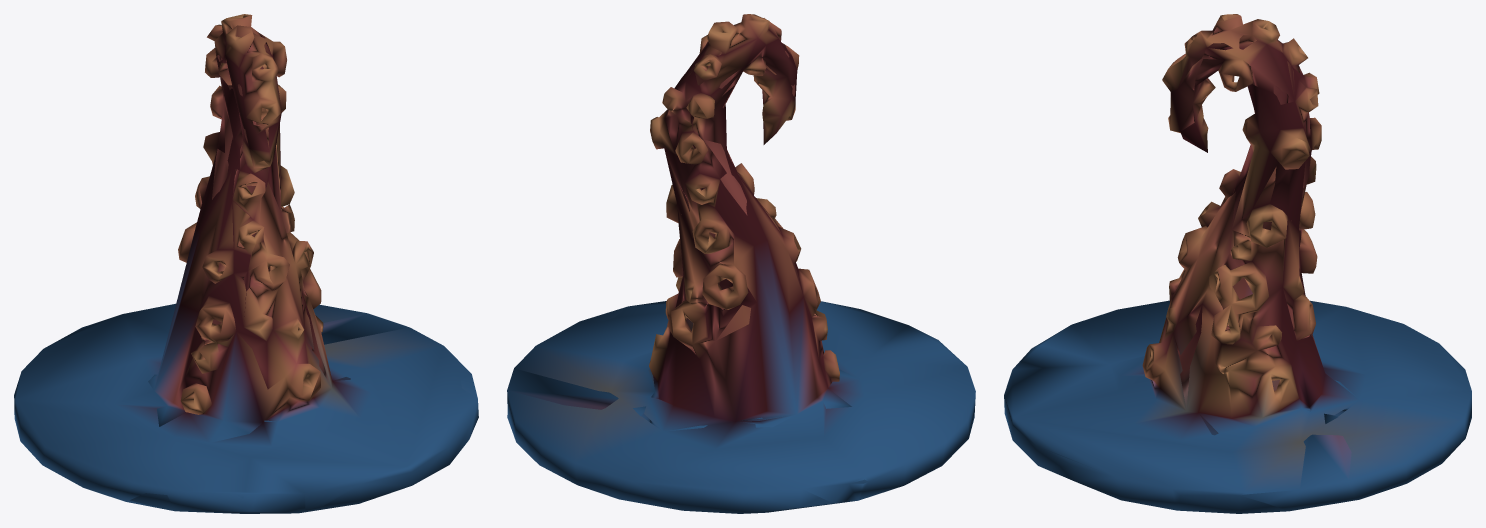
Rendered from gen3d-kraken-tentacle-lod1.glb.
3 views of the same model, side by side, from view 1: azimuth 30°, elevation 25°; view 2: azimuth 150°, elevation 25°; view 3: azimuth 270°, elevation 25° (orthographic).
Visible parts, largest first — view 1: part_0; view 2: part_0; view 3: part_0.
Part boxes in pixels (bbox=[...]): part_0: bbox=[14, 14, 478, 513]; part_0: bbox=[507, 14, 975, 513]; part_0: bbox=[1004, 14, 1471, 513].
Bounding box in the file's own units: 1.07 × 0.9996 × 1.07.
